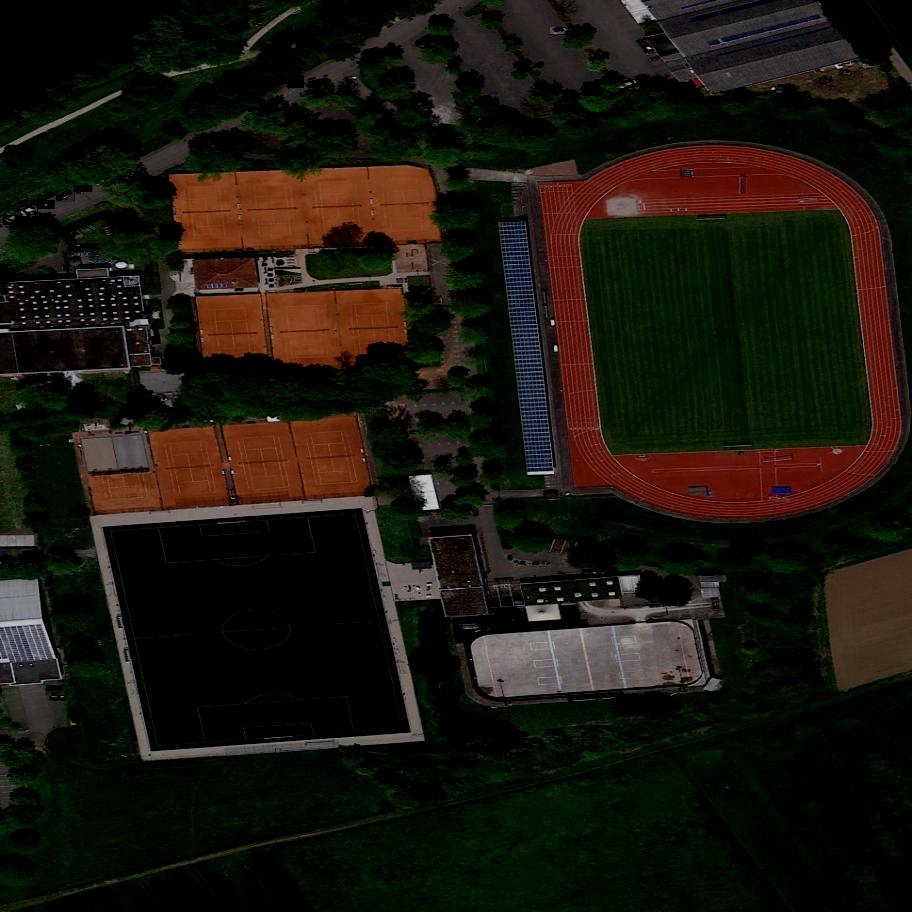small-vehicle: (287, 75, 305, 91), (57, 190, 75, 205), (620, 79, 640, 92), (36, 200, 55, 212), (3, 214, 20, 226), (20, 207, 38, 217), (551, 27, 572, 35), (75, 185, 92, 193), (46, 685, 63, 692), (49, 696, 65, 699)
